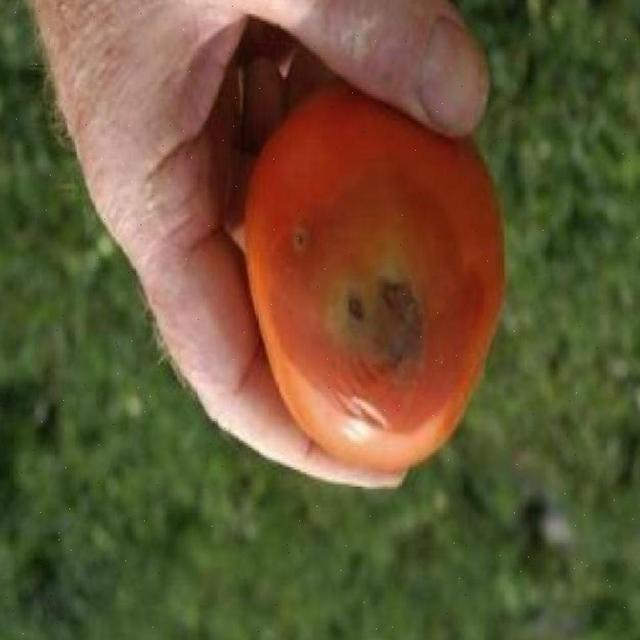Blossom End Rot Fruit: (16, 22, 249, 220)
